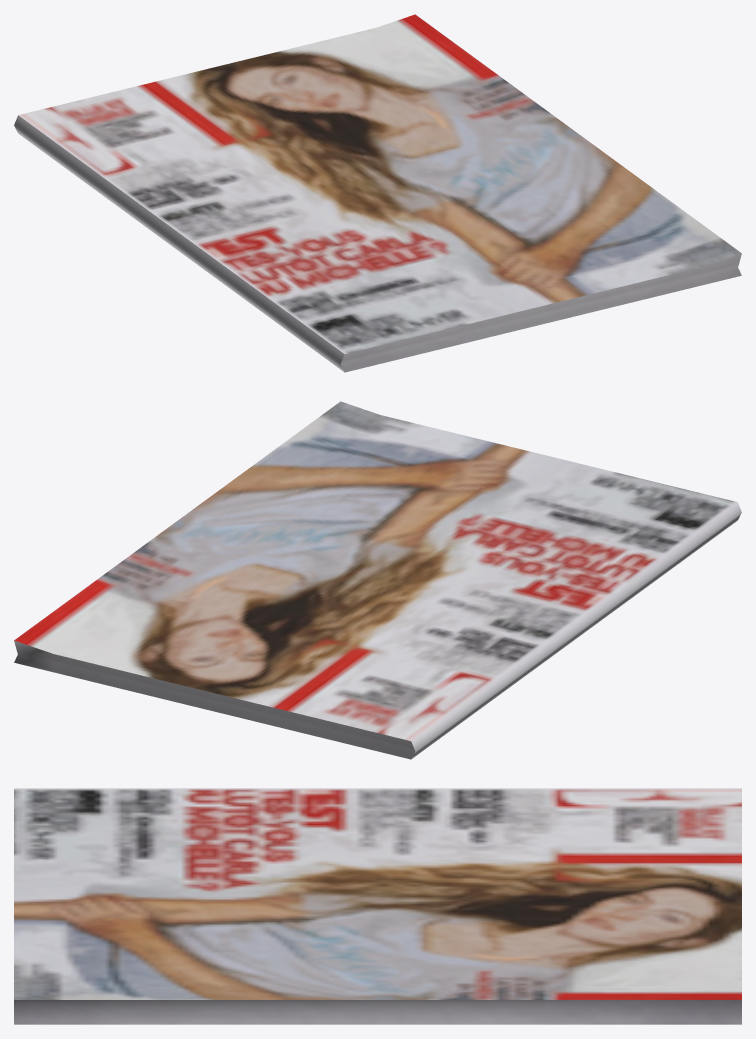
File: MaLuBian_01_zazhi_01.FBX
3 views of the same model, one above another, from view 1: azimuth 30°, elevation 25°; view 2: azimuth 150°, elevation 25°; view 3: azimuth 270°, elevation 25° (orthographic). The views are drawn at different scales.
Parts seen in each view (by area): view 1: MaLuBian_01_zazhi_01; view 2: MaLuBian_01_zazhi_01; view 3: MaLuBian_01_zazhi_01.
Boxes of the visible parts, <box> form: MaLuBian_01_zazhi_01: <box>14,14,741,372</box>; MaLuBian_01_zazhi_01: <box>14,401,741,759</box>; MaLuBian_01_zazhi_01: <box>14,788,741,1024</box>.
Bounding box in the file's own units: 128 × 6.78 × 180.
